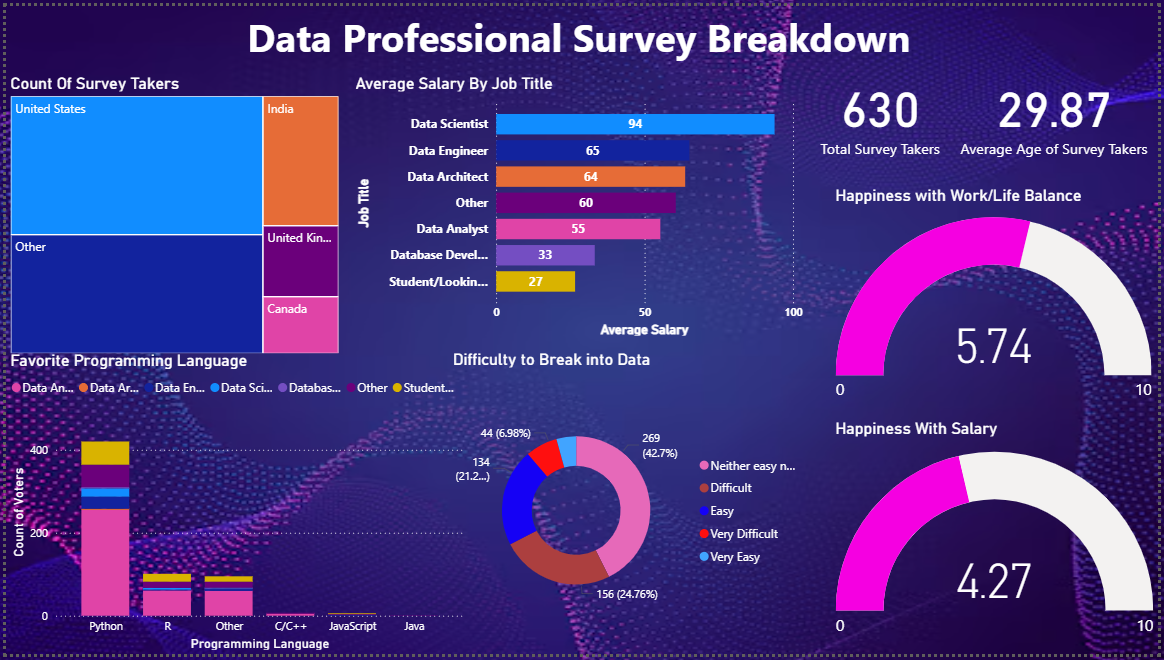

The dashboard page shown, as its layout file describes it:
{"tool":"powerbi","page":{"name":"Dashboard","canvas":[1280,720],"ordinal":0},"visuals":[{"type":"textbox","box":[0,0,1277.6,77.7],"z":0},{"type":"card","fields":{"Values":["Count(Data Professional Survey.Unique ID)"]},"box":[892.2,35.6,158.7,168.4],"z":1000},{"type":"card","fields":{"Values":["Avg(Data Professional Survey.Q10 - Current Age)"]},"box":[1048.5,34.5,231.5,168.4],"z":2000},{"type":"barChart","title":"Average Salary By Job Title","fields":{"Category":["Data Professional Survey.Q1 - Which Title Best Fits your Current Role?.1"],"Y":["Avg(Data Professional Survey.Average Salary)"],"Series":["Data Professional Survey.Q1 - Which Title Best Fits your Current Role?.1"]},"box":[383.2,74.5,506.8,296.3],"z":3000},{"type":"columnChart","title":"Favorite Programming Language","fields":{"Category":["Data Professional Survey.Q5 - Favorite Programming Language.1"],"Y":["CountNonNull(Data Professional Survey.Unique ID)"],"Series":["Data Professional Survey.Q1 - Which Title Best Fits your Current Role?.1"]},"box":[0,383.8,513.3,336.8],"z":4000},{"type":"treemap","title":"Count Of Survey Takers","fields":{"Group":["Data Professional Survey.Q11 - Which Country do you live in?"],"Values":["CountNonNull(Data Professional Survey.Q11 - Which Country do you live in?)"]},"box":[0,74.5,374,315.7],"z":5000},{"type":"gauge","title":"Happiness with Work/Life Balance","fields":{"MinValue":["Min(Data Professional Survey.Q6 - How Happy are you in your Current Position with the following? (Work/Life Balance))"],"MaxValue":["Max(Data Professional Survey.Q6 - How Happy are you in your Current Position with the following? (Work/Life Balance))1"],"Y":["Avg(Data Professional Survey.Q6 - How Happy are you in your Current Position with the following? (Work/Life Balance))2"]},"box":[916.5,200.8,361.1,257.5],"z":6000},{"type":"gauge","title":"Happiness With Salary","fields":{"Y":["Avg(Data Professional Survey.Q6 - How Happy are you in your Current Position with the following? (Salary))"],"MinValue":["Min(Data Professional Survey.Q6 - How Happy are you in your Current Position with the following? (Salary))1"],"MaxValue":["Max(Data Professional Survey.Q6 - How Happy are you in your Current Position with the following? (Salary))2"]},"box":[916.5,457.7,362.7,262.9],"z":7000},{"type":"donutChart","title":"Difficulty to Break into Data","fields":{"Y":["CountNonNull(Data Professional Survey.Q7 - How difficult was it for you to break into Data?)"],"Category":["Data Professional Survey.Q7 - How difficult was it for you to break into Data?"]},"box":[492.2,382.1,399.9,336.8],"z":8000}]}

Visuals, with their boxes in screenshot pixels (x1, y1, x2, y2), scaled from the page's 1280x720 canvas onto the 1164x660 screenshot:
textbox: crop(0, 0, 1162, 71)
card - Count(Data Professional Survey.Unique ID): crop(811, 33, 956, 187)
card - Avg(Data Professional Survey.Q10 - Current Age): crop(953, 32, 1163, 186)
"Average Salary By Job Title" barChart: crop(348, 68, 809, 340)
"Favorite Programming Language" columnChart: crop(0, 352, 467, 659)
"Count Of Survey Takers" treemap: crop(0, 68, 340, 358)
"Happiness with Work/Life Balance" gauge: crop(833, 184, 1162, 420)
"Happiness With Salary" gauge: crop(833, 420, 1163, 659)
"Difficulty to Break into Data" donutChart: crop(448, 350, 811, 659)
